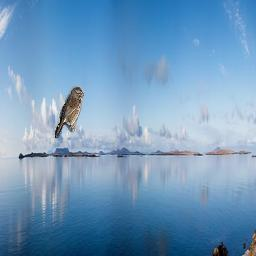Sparrow: (56, 86, 85, 138)
